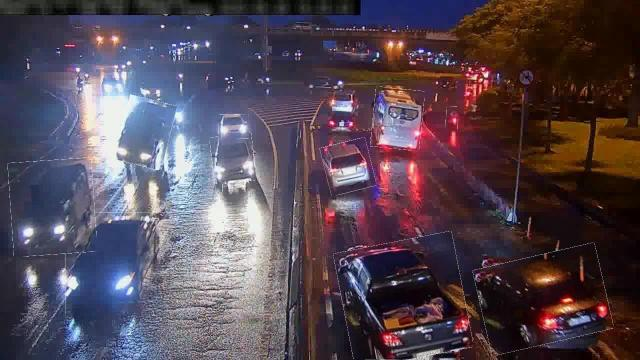Bike: (446, 108, 458, 132)
Bus: (372, 88, 424, 150)
Car: (338, 236, 469, 360), (478, 250, 610, 351), (66, 213, 172, 315), (322, 140, 373, 194), (211, 134, 255, 184), (218, 114, 250, 138)
Truck: (9, 160, 95, 256), (118, 98, 174, 168)
